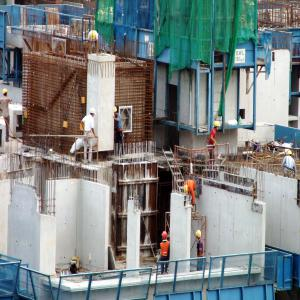red: (162, 232, 168, 242)
white: (90, 108, 96, 118)
yellow: (215, 122, 221, 132), (197, 231, 202, 241), (92, 31, 97, 41), (250, 3, 256, 11), (185, 186, 190, 195), (3, 89, 8, 98), (288, 151, 293, 159), (115, 107, 118, 118)
